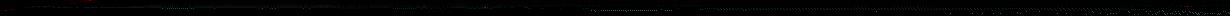Blue cone: (23, 7, 29, 8), (8, 9, 13, 10)
Yellow cone: (324, 5, 330, 7)
